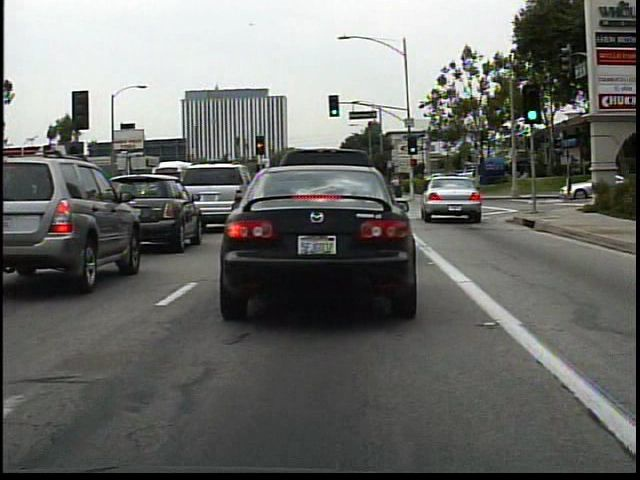person: (390, 173, 404, 199)
